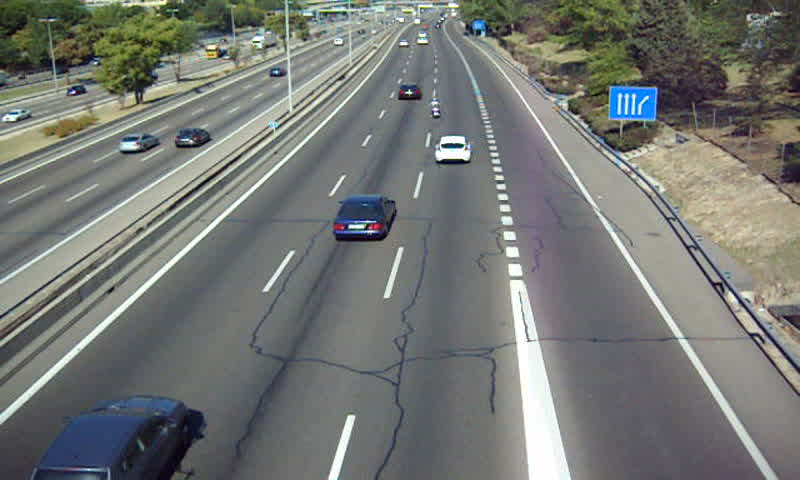car: (33, 396, 190, 480), (331, 195, 396, 242), (435, 135, 472, 166), (396, 84, 422, 102)
motorcycle: (428, 98, 442, 122)
